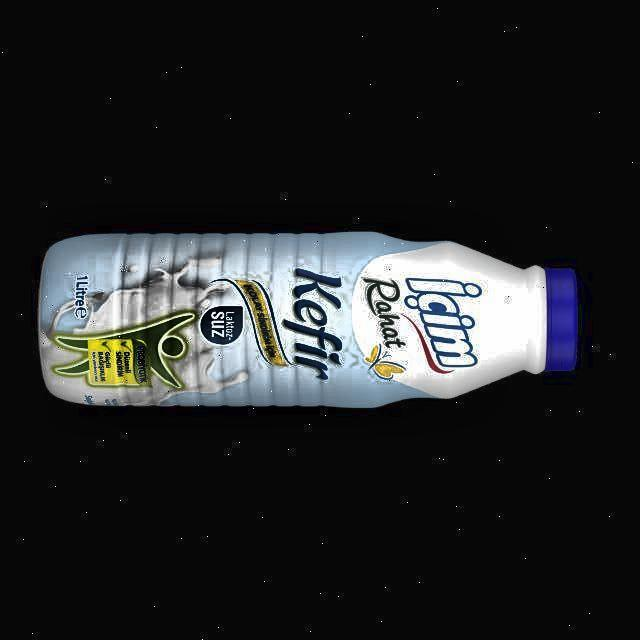plastic: (39, 232, 578, 407)
